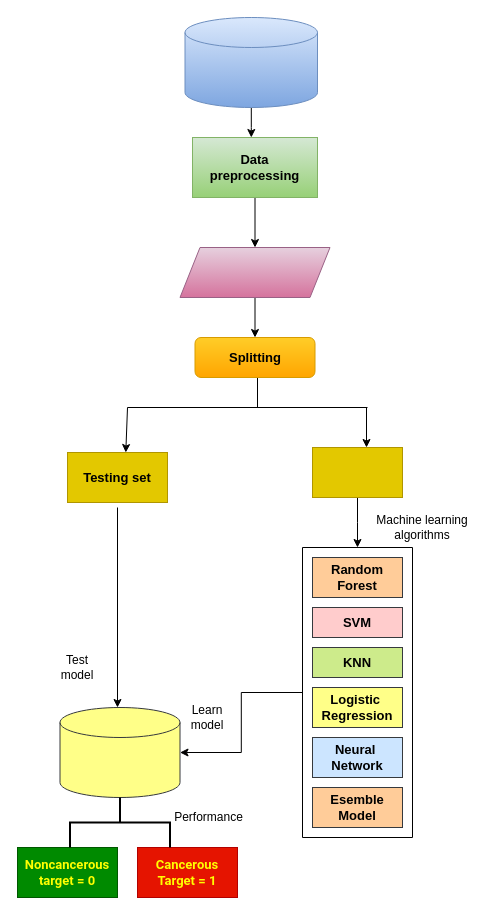
This 495x915 diagram has some shape labels left out. Each missing label, with the centre of its shape:
"Analyze The dataset" belongs at point 254,272.
"Classifier Models" belongs at point 119,752.
"Prostate Cancer Dataset" belongs at point 251,62.
"Training set" belongs at point 357,472.
